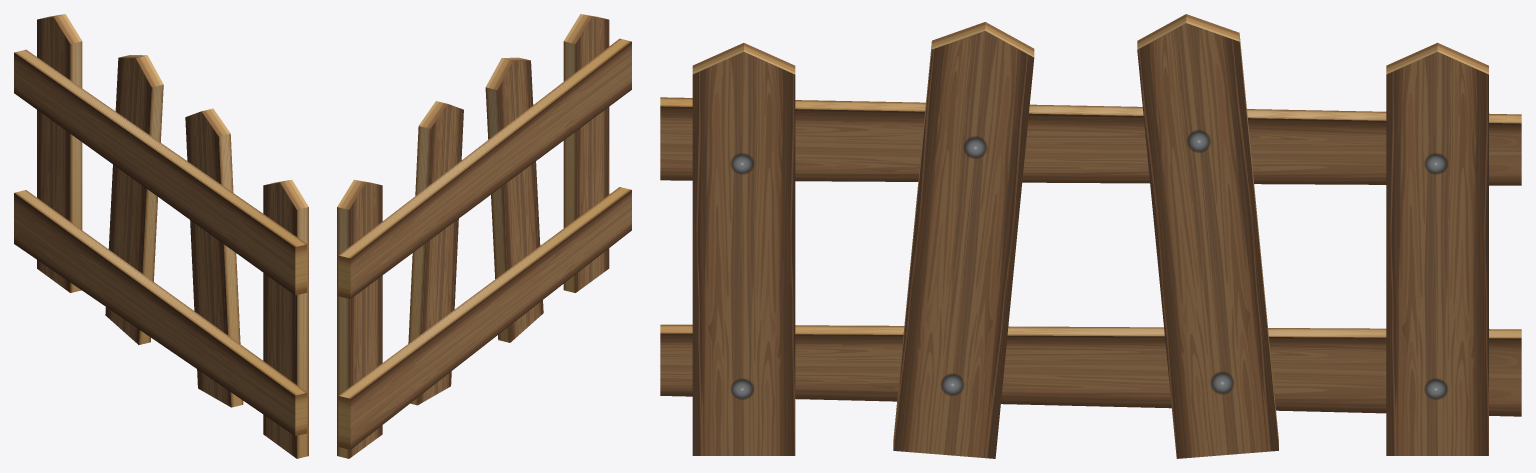
Rendered from Fence_B.FBX.
3 renders of one model, left to right at view 1: azimuth 30°, elevation 25°; view 2: azimuth 150°, elevation 25°; view 3: azimuth 270°, elevation 25°, orthographic. The views are drawn at different scales.
Parts seen in each view (by area): view 1: Fence_B; view 2: Fence_B; view 3: Fence_B.
Boxes of the visible parts, x1,y1,x2,y2 form: Fence_B: (14,14,308,458); Fence_B: (337,14,631,458); Fence_B: (660,14,1521,458).
Size of the model in its own units: 0.0988 by 1.11 by 1.99.
